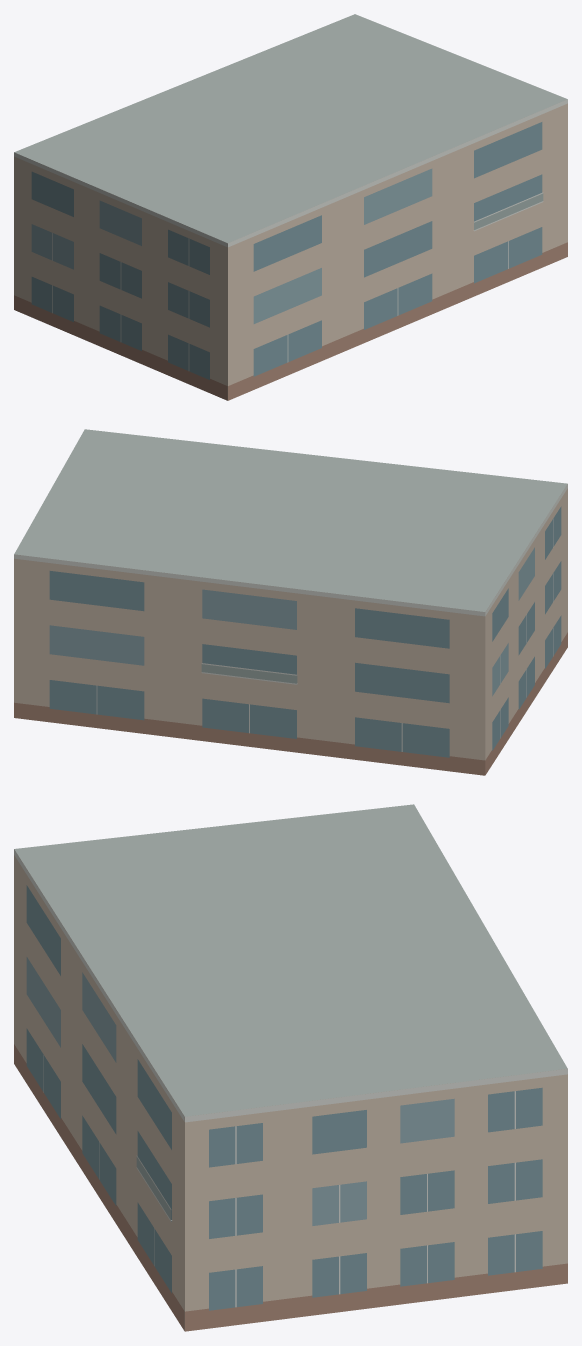
The model's file is survey-upis-33013846.glb.
3 renders of one model, top to bottom at view 1: azimuth 30°, elevation 25°; view 2: azimuth 150°, elevation 25°; view 3: azimuth 270°, elevation 25°, orthographic. The views are drawn at different scales.
Parts seen in each view (by area): view 1: survey-upis-33013846.tmp; view 2: survey-upis-33013846.tmp; view 3: survey-upis-33013846.tmp.
Boxes of the visible parts, box(x1,y1,x2,y2) form: survey-upis-33013846.tmp: box(14, 14, 567, 400); survey-upis-33013846.tmp: box(14, 429, 567, 775); survey-upis-33013846.tmp: box(14, 804, 567, 1331).
Bounding box in the file's own units: 28.56 × 9.15 × 21.39.
